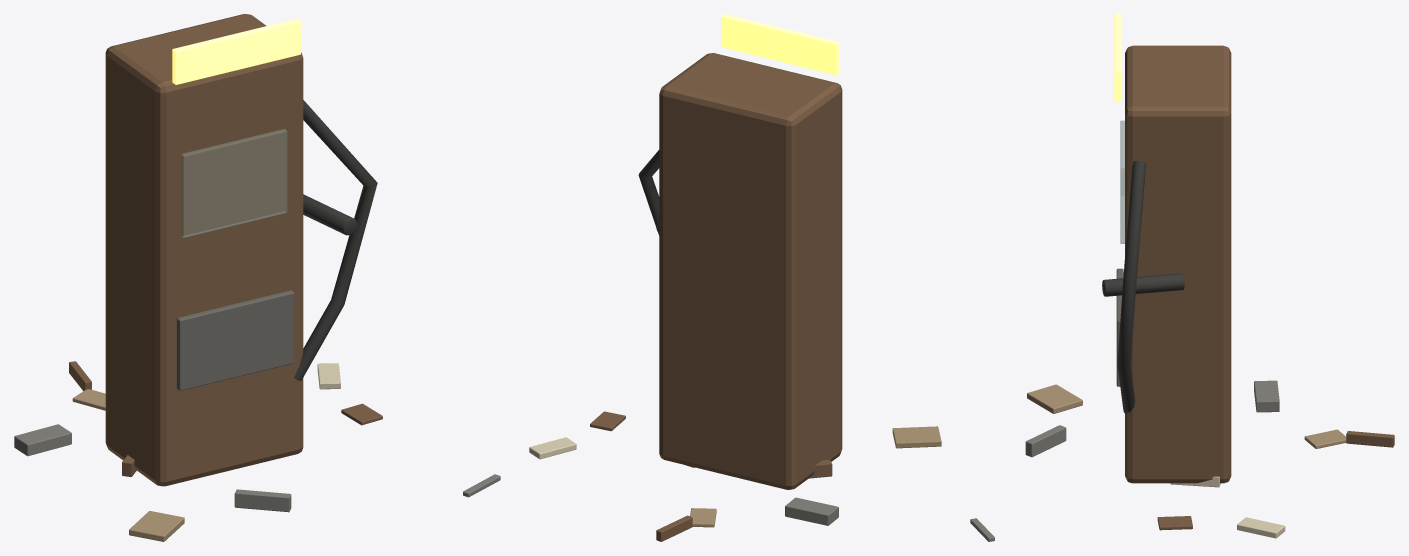
File: dz_gas_pump_premium_A.glb
3 views of the same model, side by side, from view 1: azimuth 30°, elevation 25°; view 2: azimuth 150°, elevation 25°; view 3: azimuth 270°, elevation 25° (orthographic). The views are drawn at different scales.
Visible parts, largest first — view 1: gas_pump_tall_rusted_body, gas_pump_front_glass_meter, gas_pump_lower_panel, broken_brand_light, hanging_fuel_hose, gas_pump_base_debris_00, gas_pump_base_debris_01, nozzle_handle, gas_pump_base_debris_09, gas_pump_base_debris_04; view 2: gas_pump_tall_rusted_body, broken_brand_light, gas_pump_base_debris_00, gas_pump_base_debris_01, hanging_fuel_hose, gas_pump_base_debris_04, gas_pump_base_debris_05; view 3: gas_pump_tall_rusted_body, hanging_fuel_hose, nozzle_handle, gas_pump_base_debris_01, gas_pump_base_debris_00, gas_pump_base_debris_09, broken_brand_light, gas_pump_base_debris_04, gas_pump_base_debris_05, gas_pump_front_glass_meter, gas_pump_base_debris_02.
Boxes of the visible parts, x1,y1,x2,y2 form: gas_pump_tall_rusted_body: (105,14,303,486); gas_pump_front_glass_meter: (181,129,287,237); gas_pump_lower_panel: (176,290,294,390); broken_brand_light: (172,18,300,84); hanging_fuel_hose: (294,100,377,380); gas_pump_base_debris_00: (14,424,71,456); gas_pump_base_debris_01: (129,511,184,541); nozzle_handle: (303,194,357,235); gas_pump_base_debris_09: (234,489,291,512); gas_pump_base_debris_04: (317,363,340,389); gas_pump_tall_rusted_body: (659,53,842,489); broken_brand_light: (721,14,839,74); gas_pump_base_debris_00: (785,497,838,525); gas_pump_base_debris_01: (892,426,941,448); hanging_fuel_hose: (638,150,659,235); gas_pump_base_debris_04: (529,437,576,459); gas_pump_base_debris_05: (656,515,692,541); gas_pump_tall_rusted_body: (1125,45,1231,483); hanging_fuel_hose: (1117,161,1145,413); nozzle_handle: (1102,273,1184,296); gas_pump_base_debris_01: (1027,384,1082,413); gas_pump_base_debris_00: (1254,380,1279,412); gas_pump_base_debris_09: (1025,425,1066,457); broken_brand_light: (1114,14,1121,101); gas_pump_base_debris_04: (1237,517,1285,538); gas_pump_base_debris_05: (1346,431,1394,447); gas_pump_front_glass_meter: (1120,120,1124,243); gas_pump_base_debris_02: (1304,429,1346,448).
Bounding box in the file's own units: 1.87 × 2.35 × 2.2.
